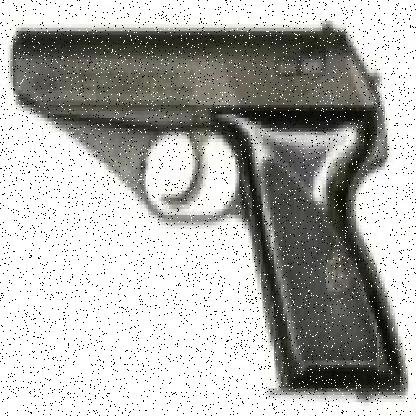pistol: (13, 24, 408, 398)
